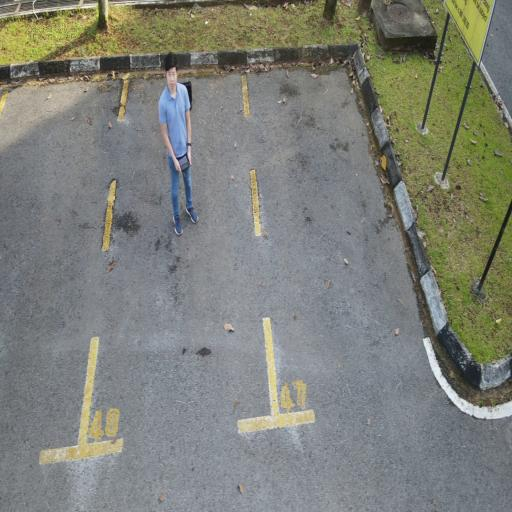Empty: (240, 57, 468, 435), (74, 54, 283, 464)
